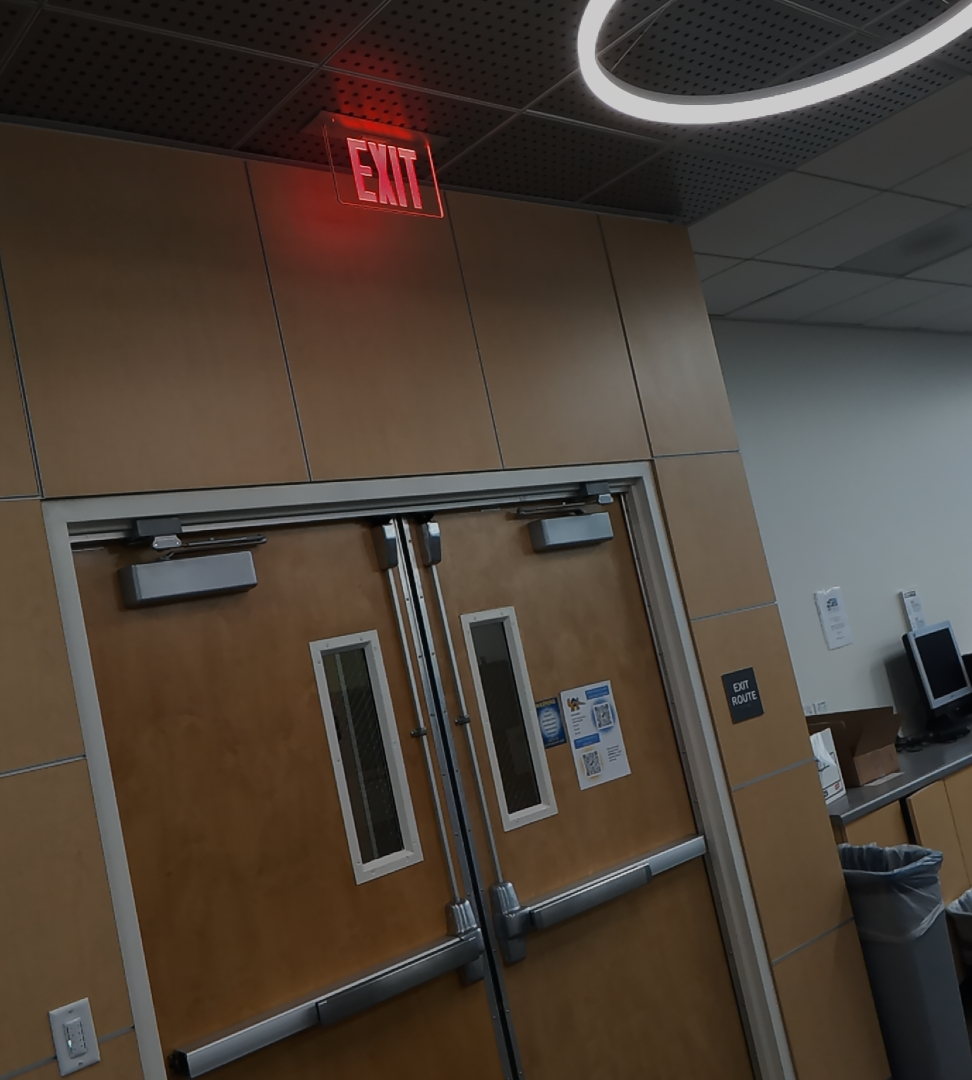emergency_exit: (319, 112, 447, 222)
